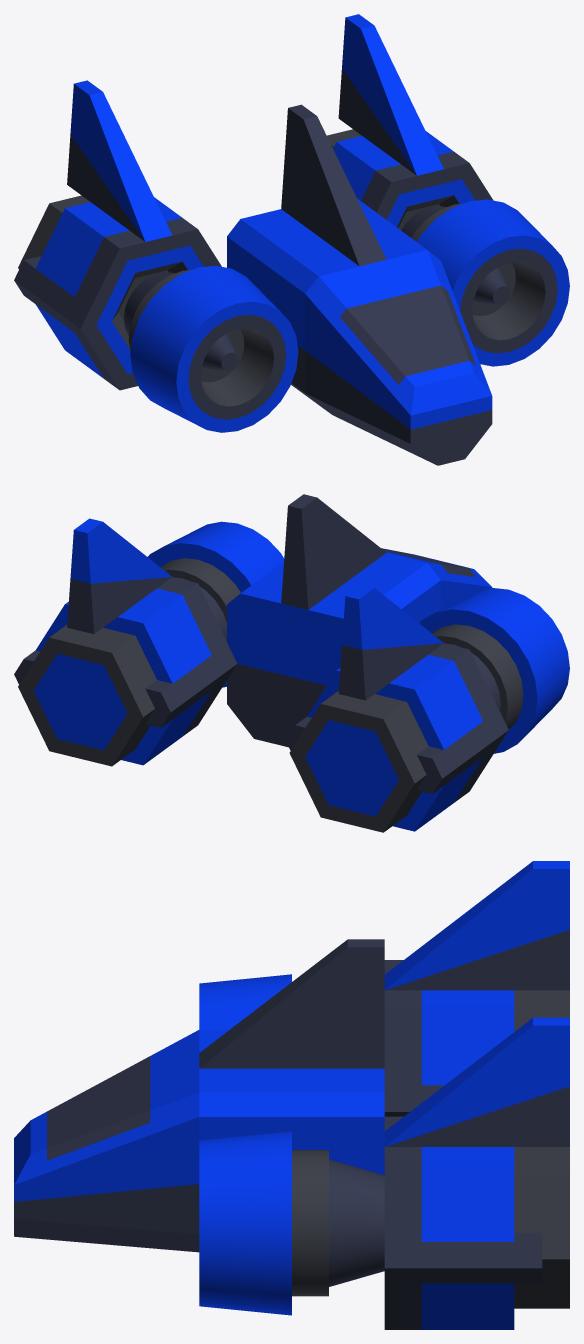
File: Ship1.fbx
3 views of the same model, one above another, from view 1: azimuth 30°, elevation 25°; view 2: azimuth 150°, elevation 25°; view 3: azimuth 270°, elevation 25° (orthographic). The views are drawn at different scales.
Visible parts, largest first — view 1: engine_round (×2), hull_cockpitPoint, engine_turbineLarge% (×2), rudder (×3), hull_body; view 2: engine_turbineLarge% (×2), rudder (×3), engine_round (×2), hull_body, hull_cockpitPoint; view 3: rudder (×3), engine_turbineLarge% (×2), engine_round (×2), hull_cockpitPoint, hull_body.
Boxes of the visible parts, x1,y1,x2,y2 form: engine_round (×2): (123,199,569,432); hull_cockpitPoint: (305,250,492,465); engine_turbineLarge% (×2): (14,129,493,390); rudder (×3): (67,14,443,266); hull_body: (227,198,426,411); engine_turbineLarge% (×2): (14,577,508,832); rudder (×3): (67,494,443,700); engine_round (×2): (148,521,569,753); hull_body: (227,553,440,747); hull_cockpitPoint: (381,548,492,609); rudder (×3): (199,861,569,1146); engine_turbineLarge% (×2): (384,960,569,1329); engine_round (×2): (199,974,384,1315); hull_cockpitPoint: (14,1030,199,1252); hull_body: (199,1029,384,1175).
Size of the model in its own units: 31.55 by 17 by 30.
